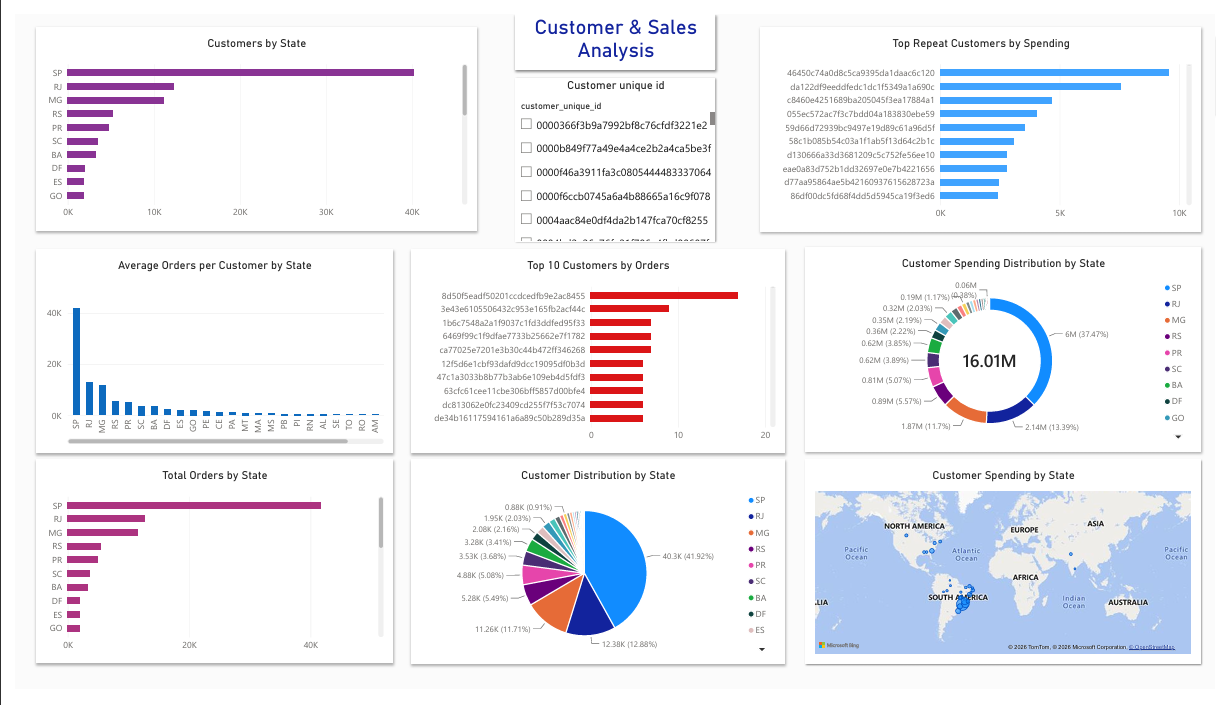

This screenshot's page, from the dashboard's own definition file:
{"tool":"powerbi","page":{"name":"Customer & Sales Analysis","canvas":[1920,1080],"ordinal":1},"visuals":[{"type":"textbox","box":[10,0,280,280],"z":0},{"type":"textbox","title":"Customer & Sales Analysis","box":[800,0,320,88.2],"z":1000},{"type":"clusteredBarChart","title":"Customers by State","fields":{"Category":["public vw_customer_summary.customer_state"],"Y":["CountNonNull(public vw_customer_summary.customer_unique_id)"]},"box":[32.7,19.6,705.3,326.5],"z":2000},{"type":"clusteredBarChart","title":"Top Repeat Customers by Spending","fields":{"Category":["public vw_repeat_customers.customer_unique_id"],"Y":["Sum(public vw_repeat_customers.total_spending)"]},"box":[1191.8,19.6,705,327],"z":3000},{"type":"clusteredColumnChart","title":"Average Orders per Customer by State","fields":{"Category":["public vw_customer_summary.customer_state"],"Y":["Sum(public vw_customer_summary.total_orders)"]},"box":[32.7,375.5,571.4,326.5],"z":4000},{"type":"clusteredBarChart","title":"Top 10 Customers by Orders","fields":{"Category":["public vw_customer_summary.customer_unique_id"],"Y":["Sum(public vw_customer_summary.total_orders)"]},"box":[633.5,375.5,597.6,326.5],"z":5000},{"type":"donutChart","title":"Customer Spending Distribution by State","fields":{"Category":["public vw_customer_summary.customer_state"],"Y":["Sum(public vw_customer_summary.total_spending)"]},"box":[1263.7,372.2,633.5,326.5],"z":6000},{"type":"clusteredBarChart","title":"Total Orders by State","fields":{"Category":["public vw_customer_summary.customer_state"],"Y":["Sum(public vw_customer_summary.total_orders)"]},"box":[32.7,711.8,571.4,326.5],"z":7000},{"type":"pieChart","title":"Customer Distribution by State","fields":{"Category":["public vw_customer_summary.customer_state"],"Y":["Count(public vw_customer_summary.customer_unique_id)"]},"box":[633,712,598,327],"z":9000},{"type":"slicer","title":"Customer unique id","fields":{"Values":["public vw_customer_summary.customer_unique_id"]},"box":[800,101.2,320,261.2],"z":10000},{"type":"map","title":"Customer Spending by State","fields":{"Category":["public vw_customer_summary.customer_state"],"Size":["Sum(public vw_customer_summary.total_spending)"]},"box":[1264,712,633,327],"z":10001}]}

Visuals, with their boxes in screenshot pixels (x1, y1, x2, y2), scaled from the page's 1920x1080 canvas onto the 1228x705 screenshot:
textbox: [6, 0, 185, 183]
"Customer & Sales Analysis" textbox: [512, 0, 716, 58]
"Customers by State" clusteredBarChart: [21, 13, 472, 226]
"Top Repeat Customers by Spending" clusteredBarChart: [762, 13, 1213, 226]
"Average Orders per Customer by State" clusteredColumnChart: [21, 245, 386, 458]
"Top 10 Customers by Orders" clusteredBarChart: [405, 245, 787, 458]
"Customer Spending Distribution by State" donutChart: [808, 243, 1213, 456]
"Total Orders by State" clusteredBarChart: [21, 465, 386, 678]
"Customer Distribution by State" pieChart: [405, 465, 787, 678]
"Customer unique id" slicer: [512, 66, 716, 237]
"Customer Spending by State" map: [808, 465, 1213, 678]
